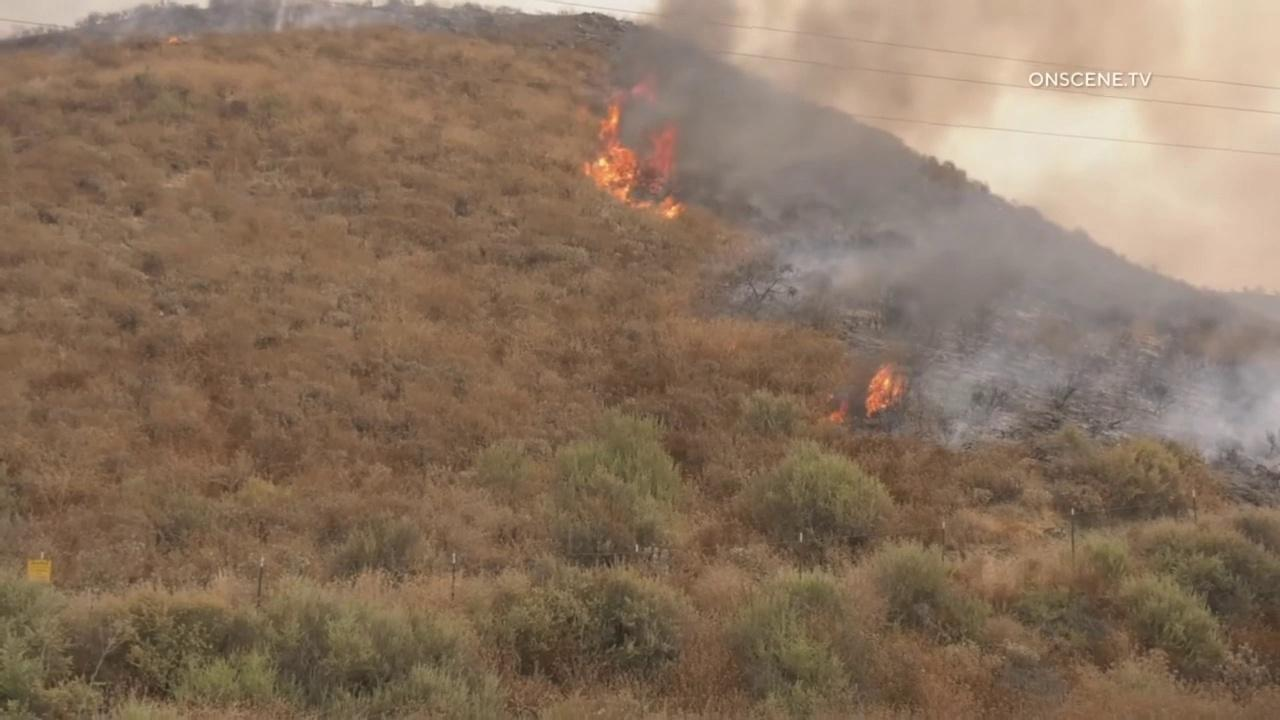fire: (583, 83, 688, 222), (864, 362, 906, 419), (829, 399, 850, 425), (169, 35, 178, 43), (829, 393, 834, 399)
smoke: (604, 0, 1280, 461), (0, 0, 480, 42)
